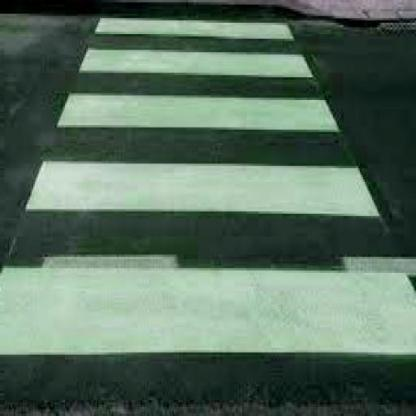crosswalk: (2, 155, 415, 378), (75, 14, 318, 80)
